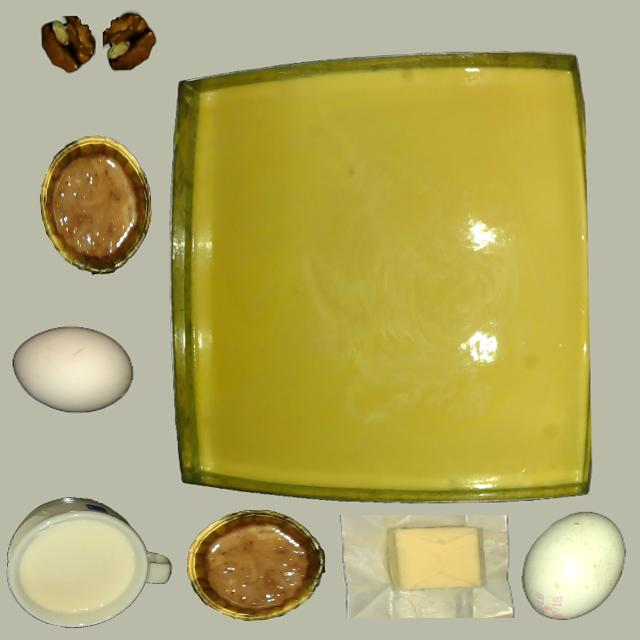Milk: (22, 522, 133, 614)
